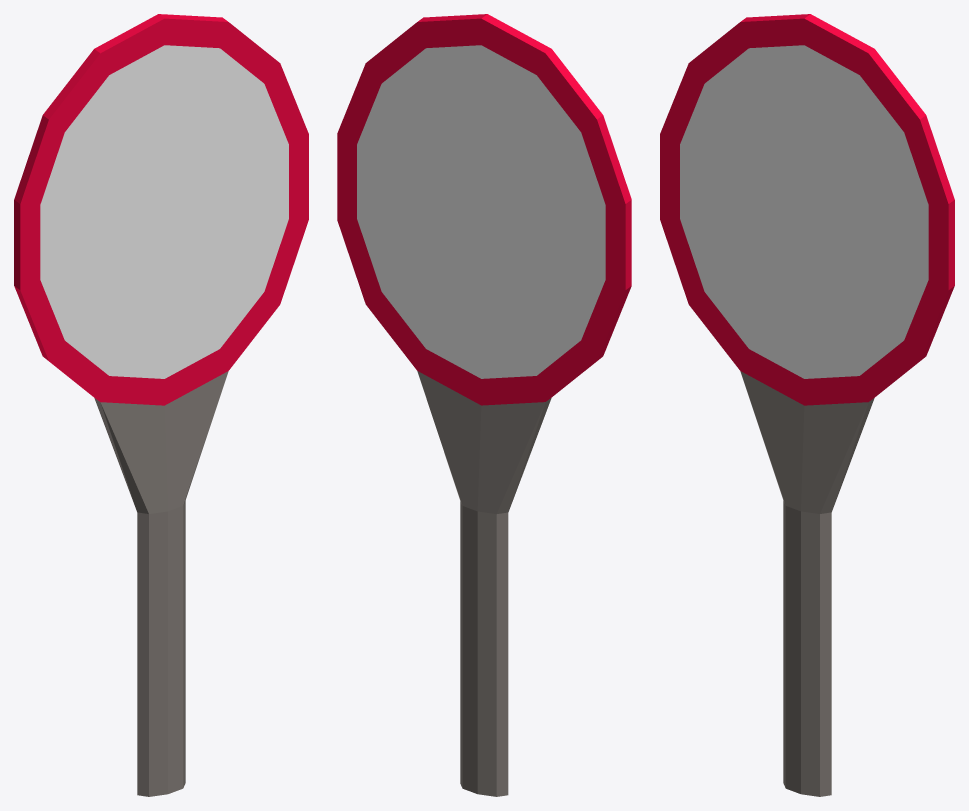
The model's file is TennisRacket.fbx.
3 views of the same model, side by side, from view 1: azimuth 30°, elevation 25°; view 2: azimuth 150°, elevation 25°; view 3: azimuth 330°, elevation 25° (orthographic).
Parts seen in each view (by area): view 1: Circle; view 2: Circle; view 3: Circle.
Boxes of the visible parts, x1,y1,x2,y2 form: Circle: (14,14,308,796); Circle: (337,14,631,796); Circle: (660,14,954,796).
Size of the model in its own units: 156 by 399 by 12.57.
